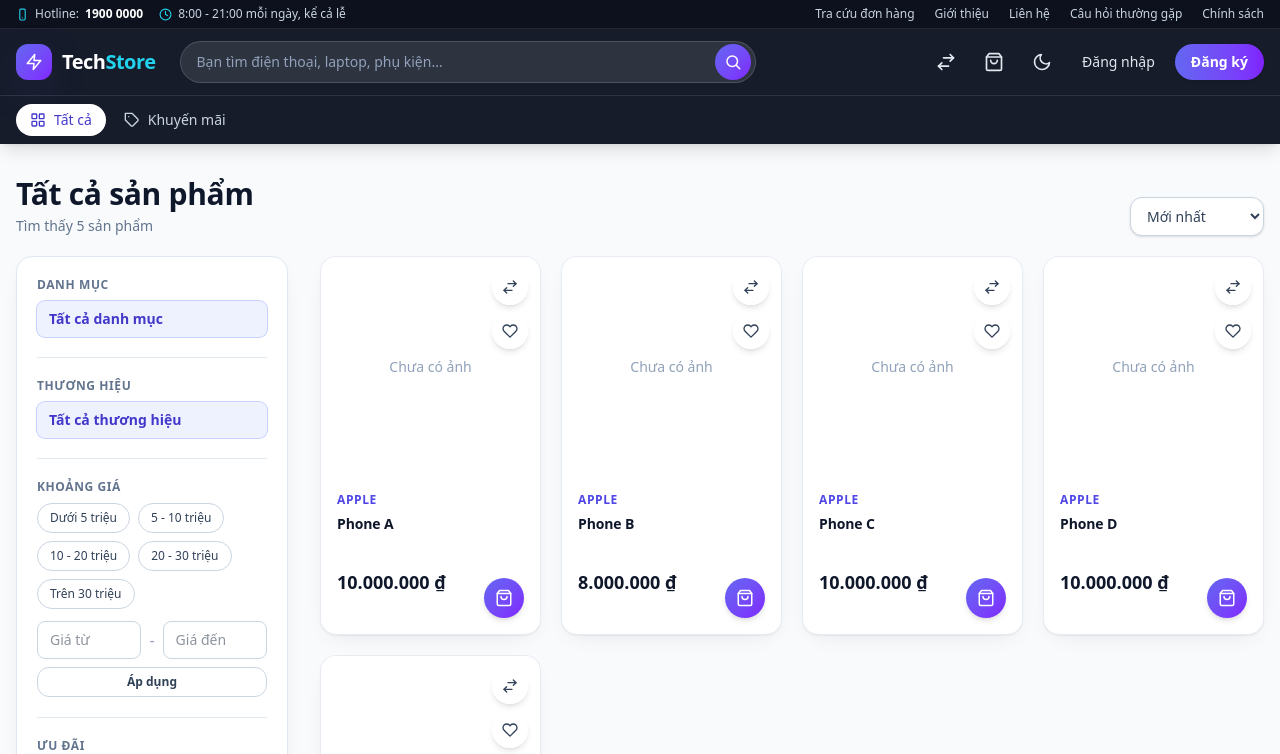
Thêm và bỏ sản phẩm so sánh › tối đa 4 sản phẩm: thêm cái thứ 5 bị từ chối kèm thông báo
The image size is (1280, 754).
What coordinates should you click on to do the following:
click the button named "So sánh Phone A"
I would click on:
 (510, 287)
Its box is [492,269,528,305].
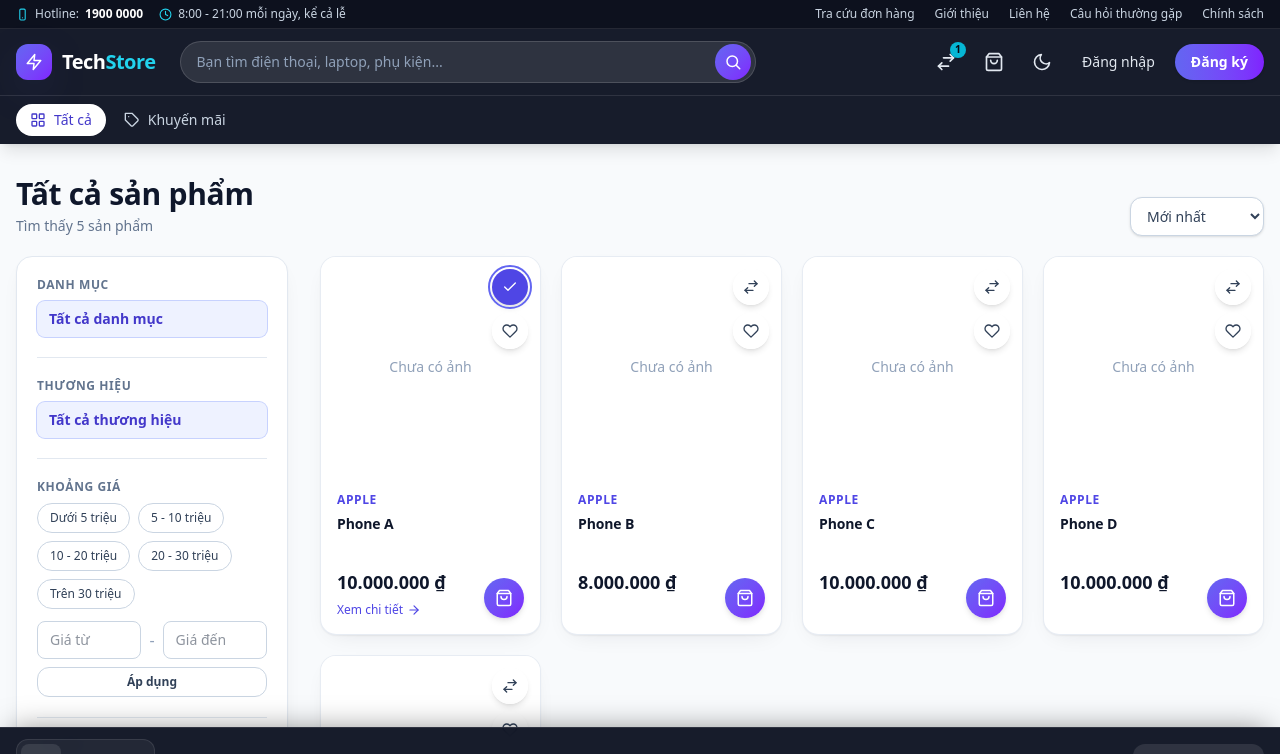
What coordinates should you click on to do the following:
click the button named "So sánh Phone B"
I would click on:
 (751, 287)
Its box is [733,269,769,305].
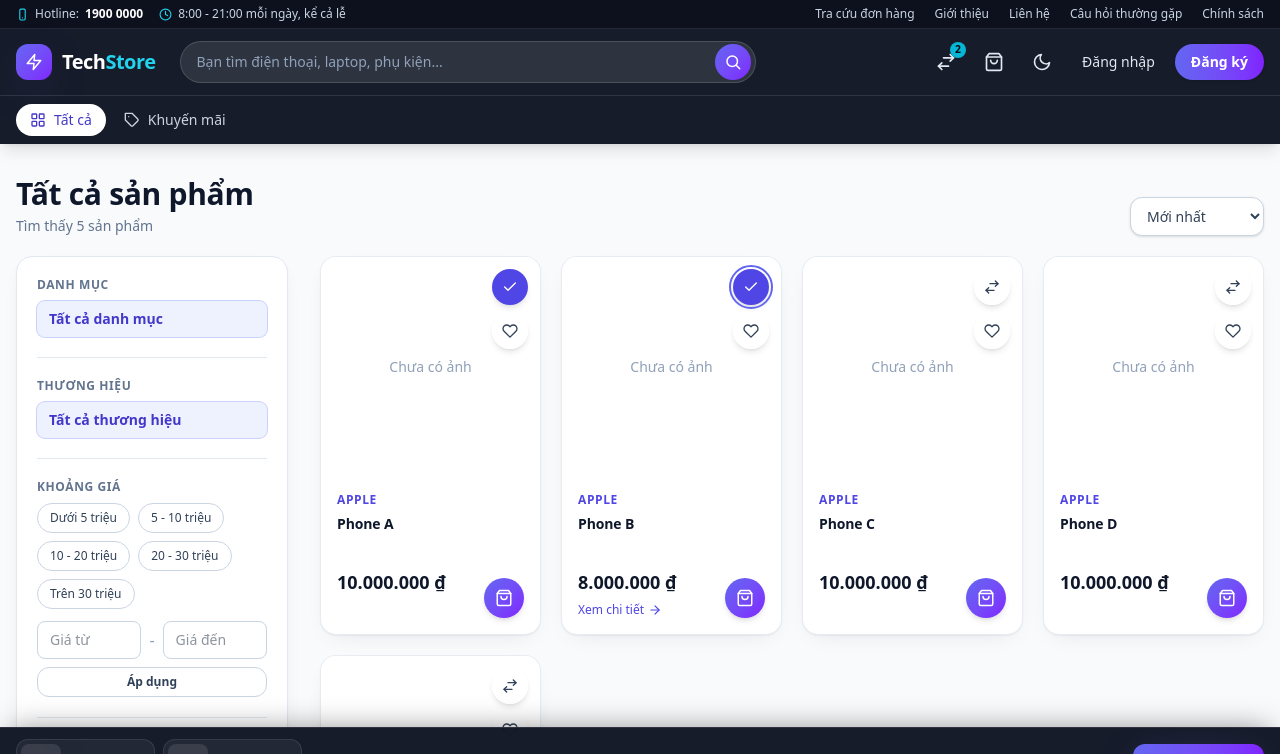
What coordinates should you click on to do the following:
click the button named "So sánh Phone C"
I would click on:
 (992, 287)
Its box is [974,269,1010,305].
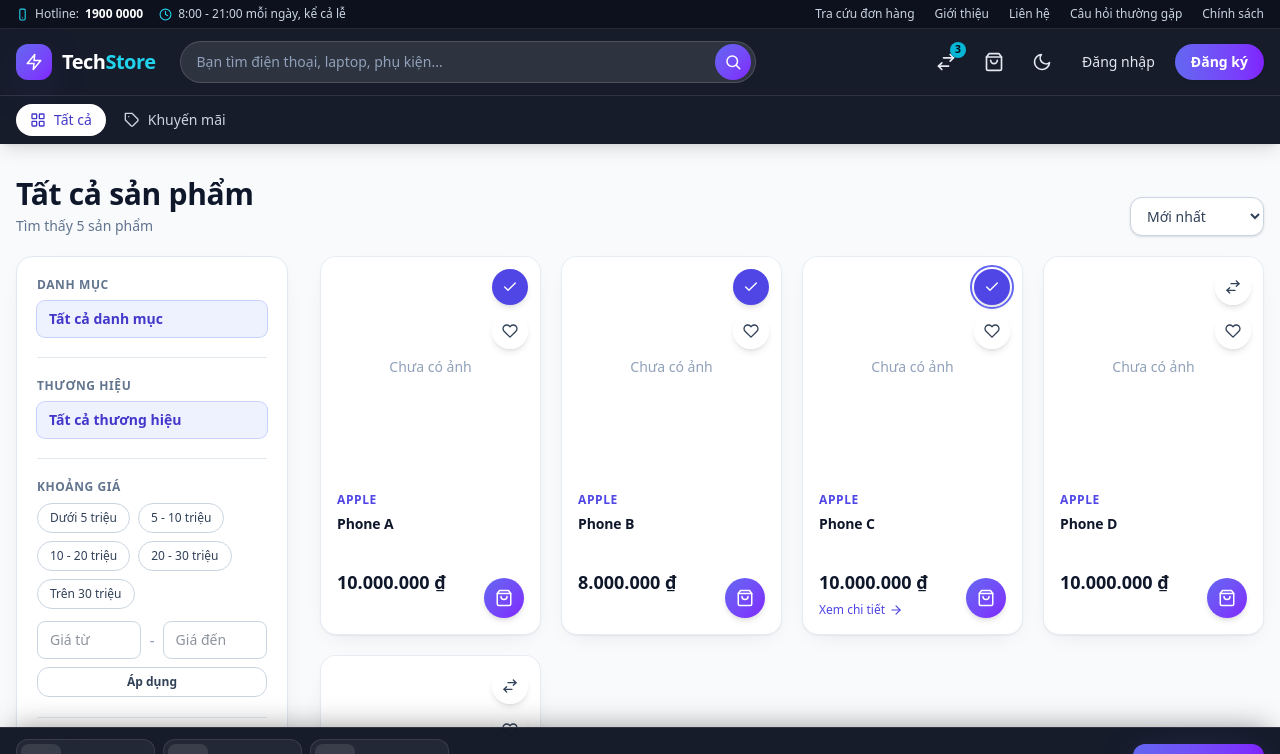
What coordinates should you click on to do the following:
click the button named "So sánh Phone D"
I would click on:
 (1233, 287)
Its box is [1215,269,1251,305].
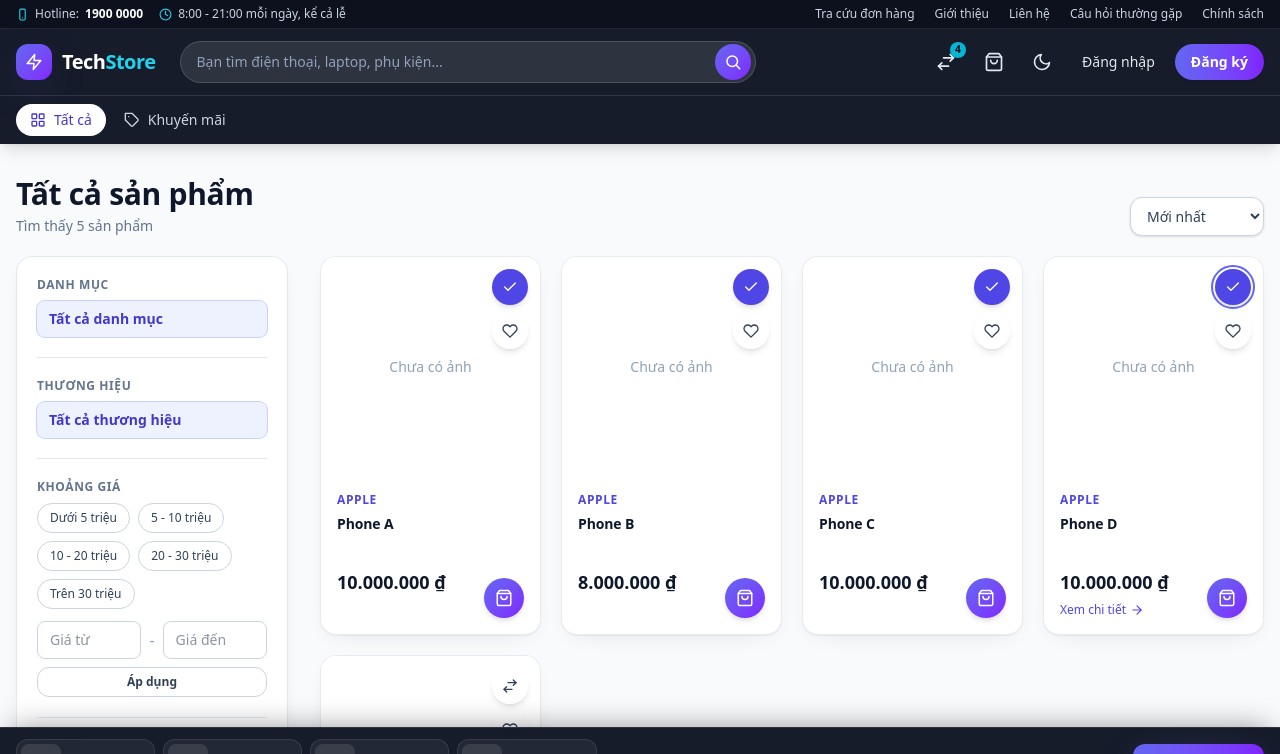
What coordinates should you click on to do the following:
click the button named "So sánh Phone E"
I would click on:
 (510, 686)
Its box is [492,668,528,704].
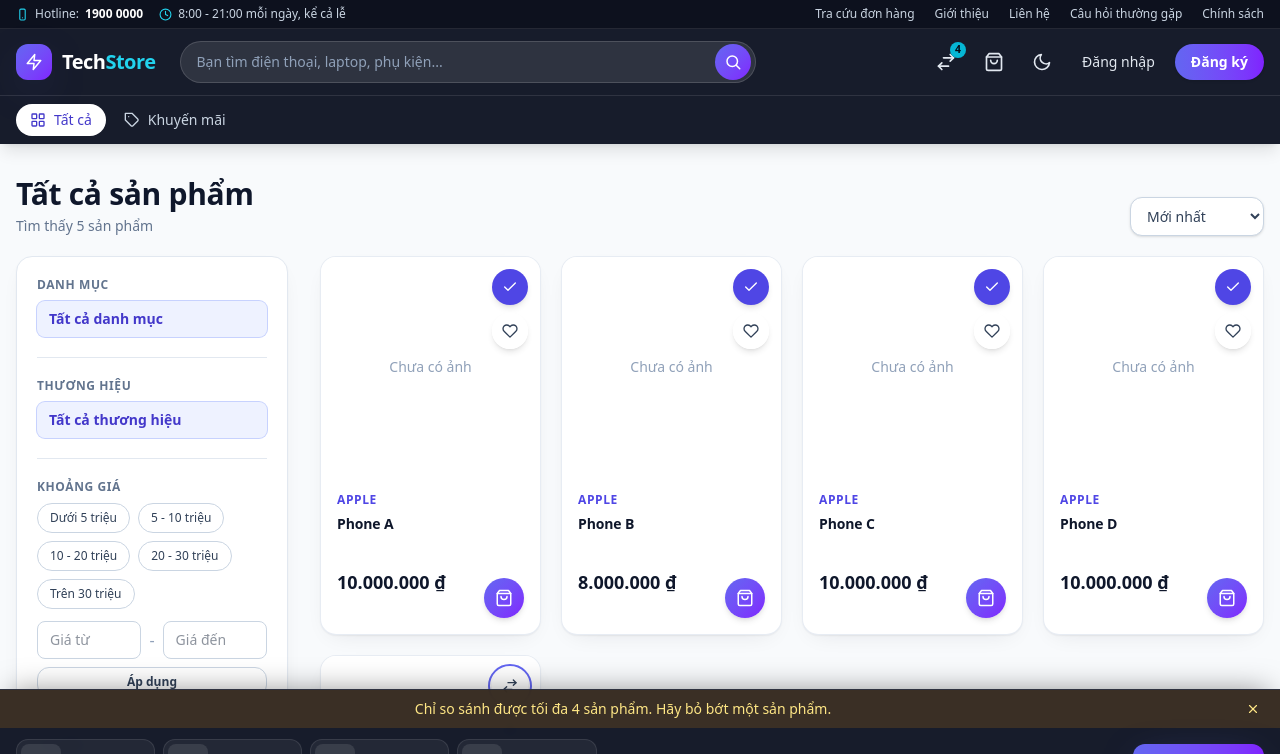
Expected: the link named "So sánh sản phẩm (4)" is shown, [936,42,966,72]
Expected: the message shows "tối đa 4 sản phẩm", [415,699,831,718]
What coordinates should you click on to do the following:
click the 1st button named "Bỏ Phone D khỏi so sánh"
I would click on:
 (1233, 287)
Its box is [1215,269,1251,305].
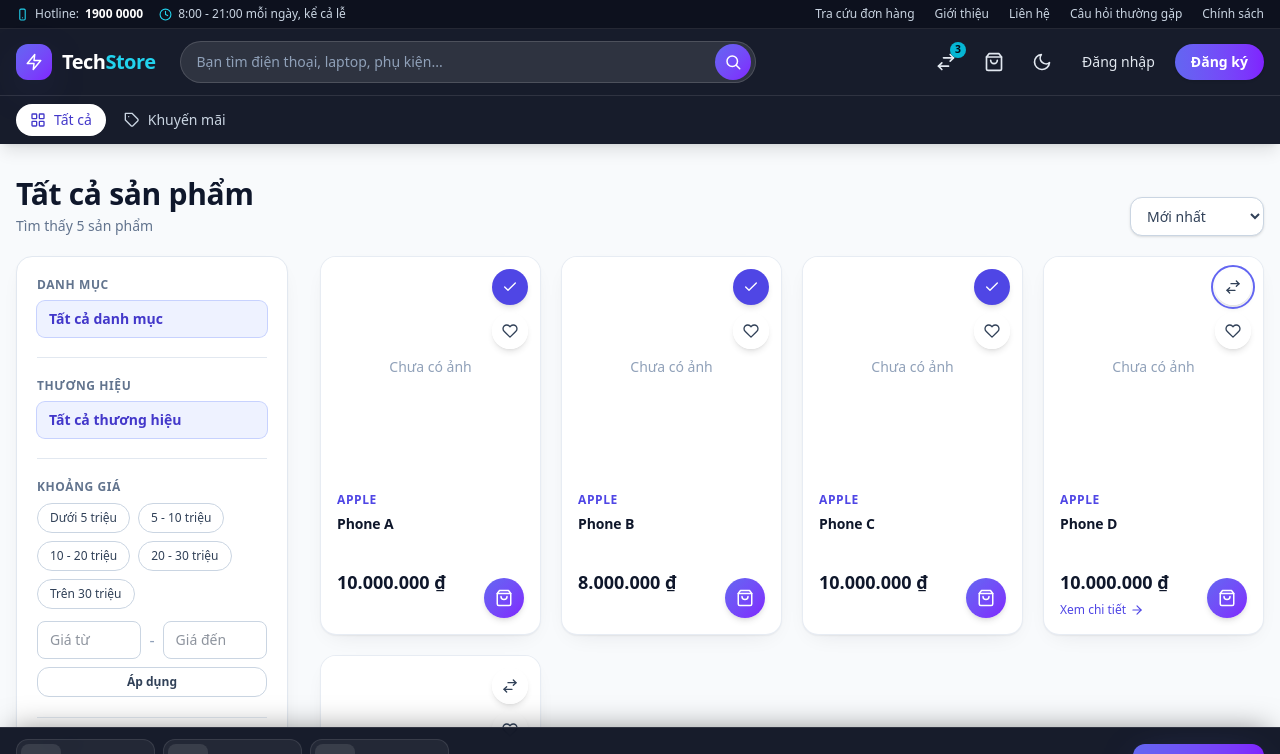
Expected: the text "tối đa 4 sản phẩm" is gone
